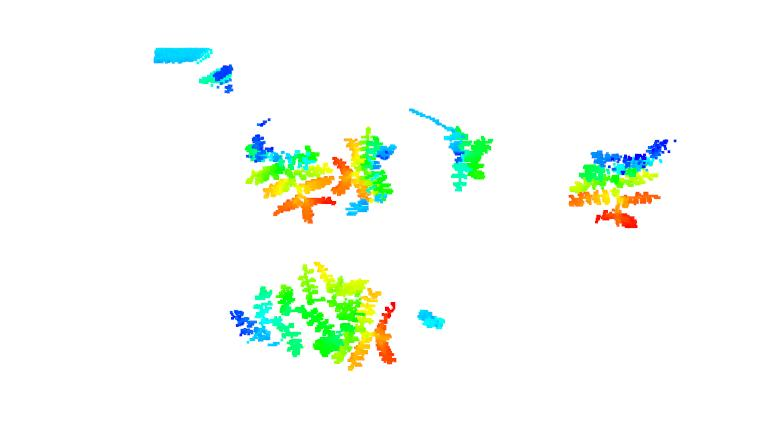chickpea: (230, 259, 370, 343), (566, 140, 670, 227), (245, 131, 335, 226), (316, 288, 402, 368), (331, 127, 398, 216), (441, 126, 491, 191)
